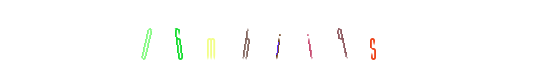0: (107, 0, 187, 80)
6: (138, 0, 218, 80)
9: (256, 0, 336, 80)
H: (230, 0, 310, 80)
I: (237, 0, 317, 80), (249, 0, 329, 80)
M: (180, 0, 260, 80)
S: (333, 0, 413, 80)
